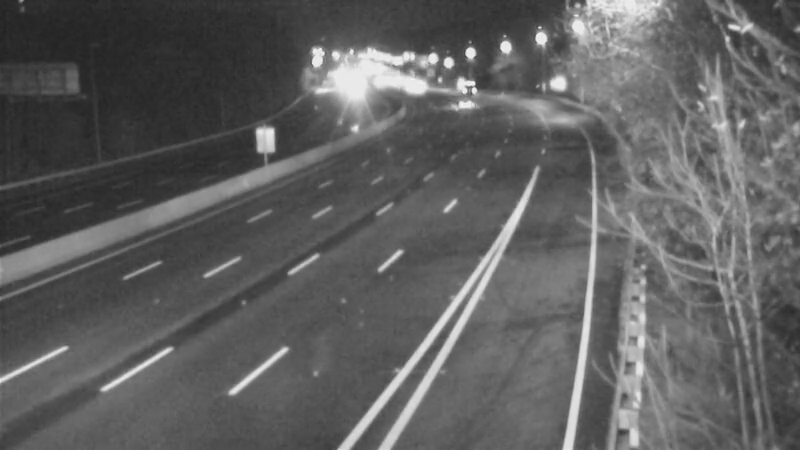vehicle: (444, 56, 494, 106), (434, 79, 484, 129)
